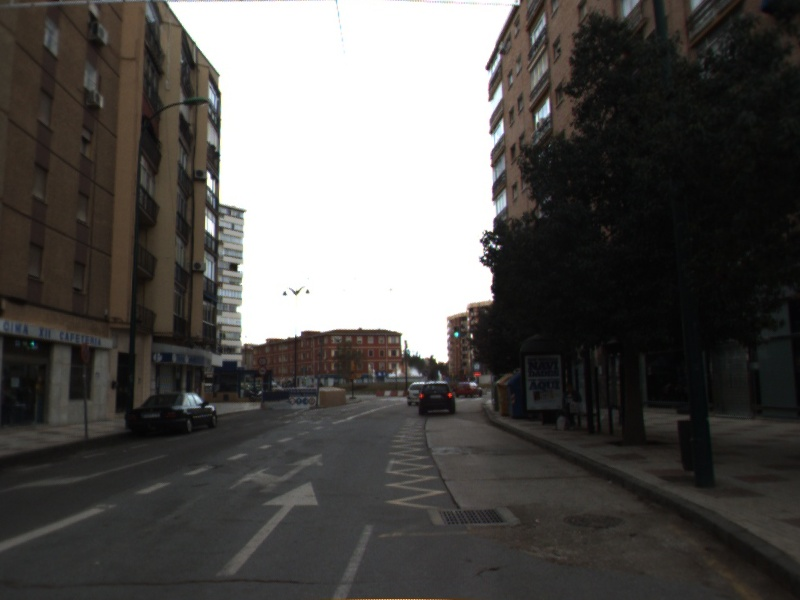STRAIGHT: (209, 480, 322, 580)
STRAIGHT_LEFT: (226, 451, 326, 494)
